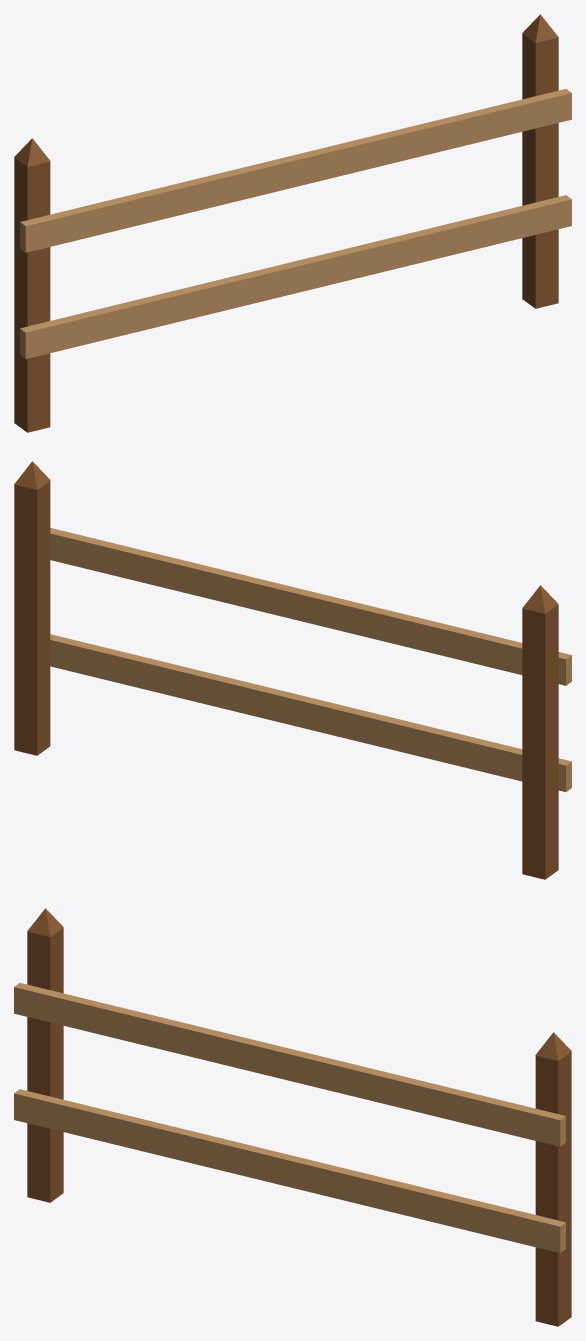
Rendered from fence.obj.
3 renders of one model, top to bottom at view 1: azimuth 30°, elevation 25°; view 2: azimuth 150°, elevation 25°; view 3: azimuth 330°, elevation 25°, orthographic.
Parts seen in each view (by area): view 1: fence; view 2: fence; view 3: fence.
Boxes of the visible parts, box(x1,y1,x2,y2) form: fence: box(14, 14, 571, 432); fence: box(14, 461, 571, 879); fence: box(14, 908, 571, 1326).
Size of the model in its own units: 2.15 by 1.08 by 0.131.
